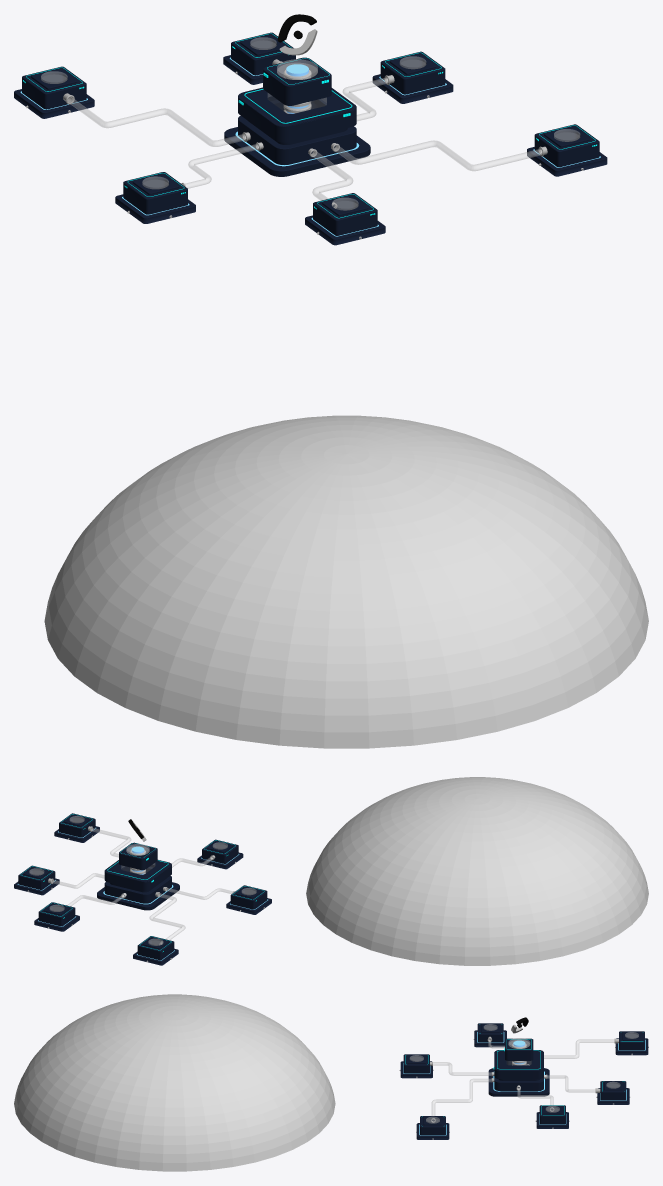
The model's file is Test_for_blender(18)copy.glb.
3 renders of one model, top to bottom at view 1: azimuth 30°, elevation 25°; view 2: azimuth 150°, elevation 25°; view 3: azimuth 270°, elevation 25°, orthographic. The views are drawn at different scales.
Visible parts, largest first — view 1: Sphere, Cube, Platform.005, Platform, Platform.002, Platform.001, Platform.003, Platform.004, Plane.006, Plane.003; view 2: Sphere, Cube, Platform.004, Platform.003, Platform.005, Platform, Platform.001, Platform.002, Plane.003; view 3: Sphere, Cube, Platform.003, Platform, Platform.002, Platform.001, Platform.005, Platform.004, Plane.003, Plane.006.
Boxes of the visible parts, box(x1,y1,x2,y2) form: Sphere: box(44, 415, 648, 748); Cube: box(224, 57, 370, 176); Platform.005: box(115, 172, 195, 223); Platform: box(305, 193, 385, 245); Platform.002: box(527, 124, 607, 176); Platform.001: box(372, 51, 453, 103); Platform.003: box(14, 66, 94, 118); Platform.004: box(223, 32, 295, 84); Plane.006: box(334, 140, 541, 170); Plane.003: box(68, 97, 245, 146); Sphere: box(306, 777, 648, 965); Cube: box(97, 842, 179, 910); Platform.004: box(34, 902, 79, 931); Platform.003: box(133, 936, 178, 965); Platform.005: box(226, 885, 271, 914); Platform: box(197, 839, 243, 869); Platform.001: box(14, 865, 59, 895); Platform.002: box(54, 813, 99, 842); Plane.003: box(149, 893, 185, 943); Sphere: box(14, 994, 335, 1171); Cube: box(488, 1038, 549, 1096); Platform.003: box(615, 1031, 648, 1055); Platform: box(400, 1054, 432, 1078); Platform.002: box(416, 1116, 449, 1139); Platform.001: box(536, 1105, 568, 1128); Platform.005: box(474, 1023, 506, 1047); Platform.004: box(597, 1081, 629, 1104); Plane.003: box(544, 1039, 614, 1058); Plane.006: box(432, 1079, 493, 1115).
Bounding box in the file's own units: 62.28 × 23.62 × 85.64.
